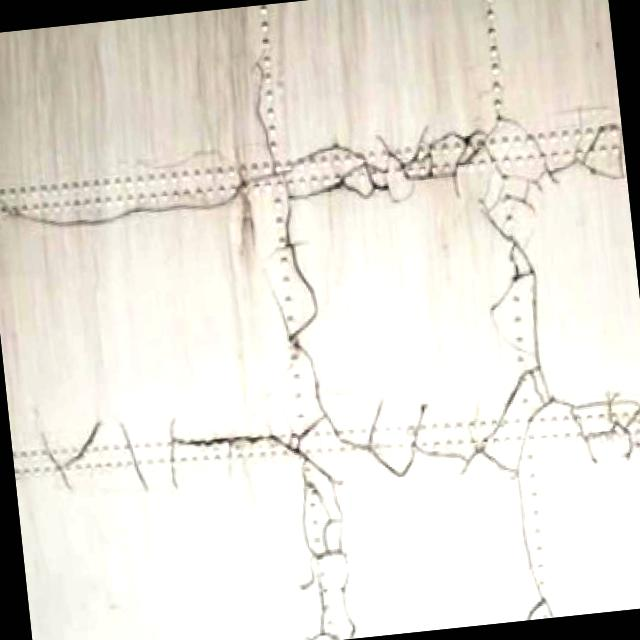crack: (26, 358, 640, 531), (0, 96, 624, 239), (235, 41, 362, 640), (460, 181, 578, 620)
